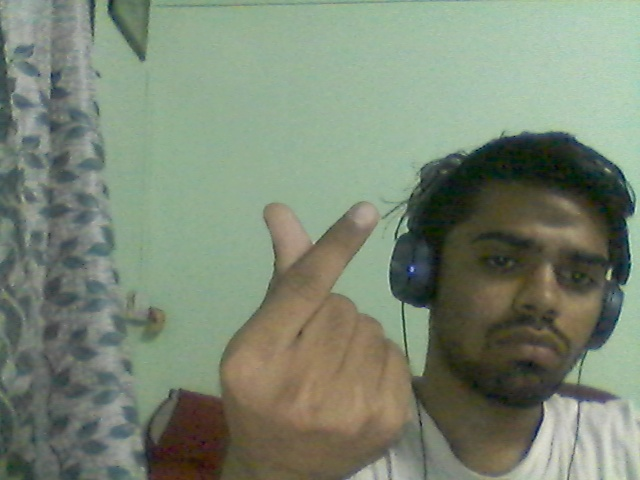I Love You: (198, 174, 445, 467)
